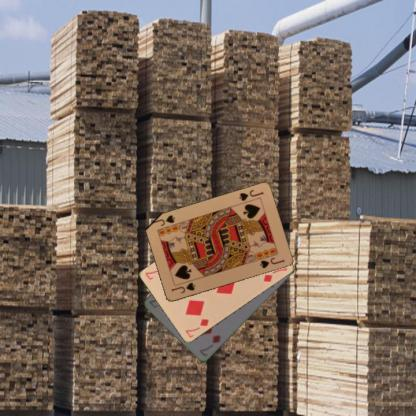7d: (197, 332, 222, 358), (182, 316, 210, 339)
Js: (236, 187, 265, 202), (168, 280, 196, 295)
